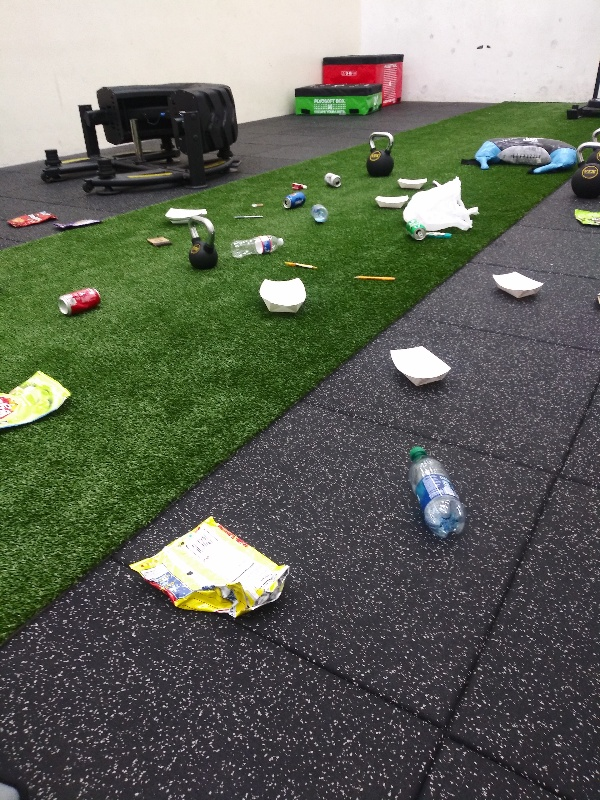bag: (125, 516, 291, 620), (1, 366, 76, 435), (5, 207, 59, 231), (54, 212, 103, 232), (570, 205, 600, 232)
bottle: (401, 443, 474, 542), (227, 228, 286, 263), (308, 201, 331, 224)
can: (54, 282, 103, 318), (403, 217, 431, 246), (277, 187, 313, 208), (319, 170, 344, 190)
plate: (383, 343, 453, 390), (256, 271, 306, 320), (488, 269, 548, 306), (162, 206, 209, 225), (367, 189, 410, 208), (395, 175, 430, 189)
